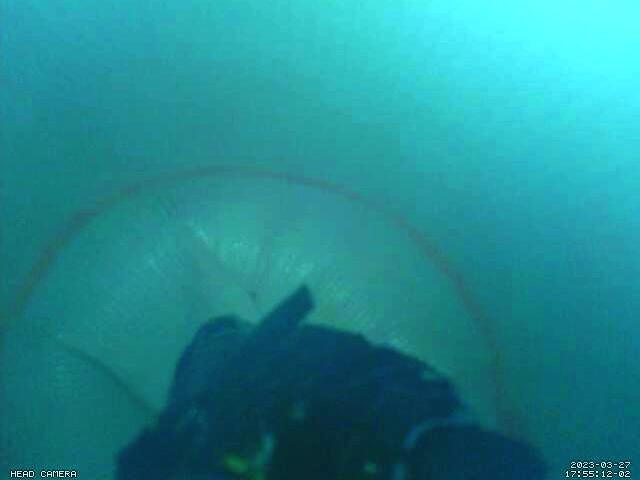head: (1, 165, 525, 442)
